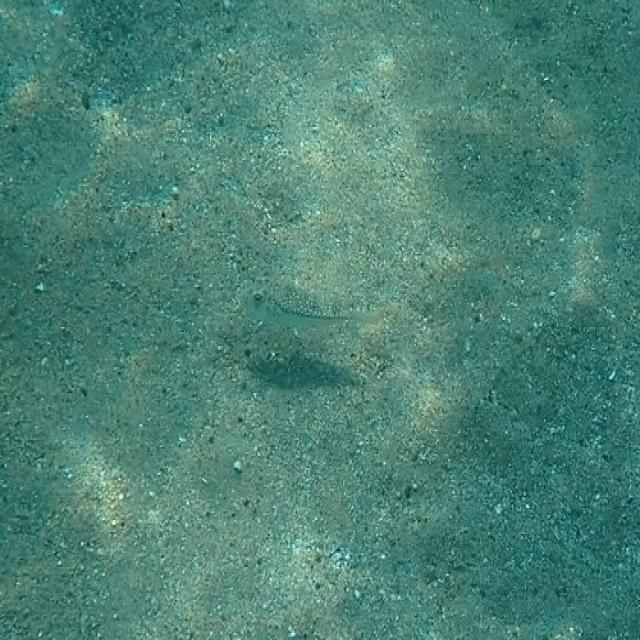Balik: (239, 282, 362, 327)
